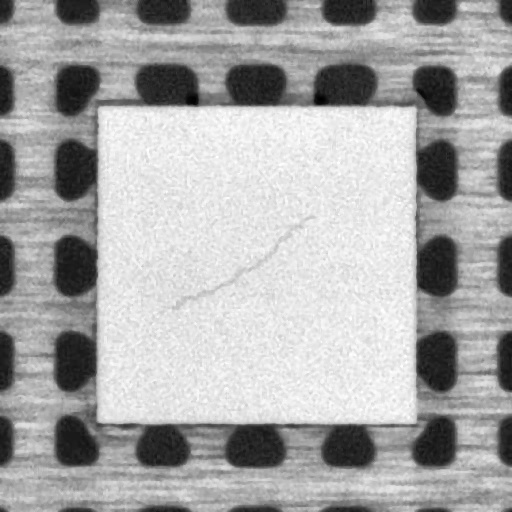DIE_CRACK: (170, 215, 318, 312)
